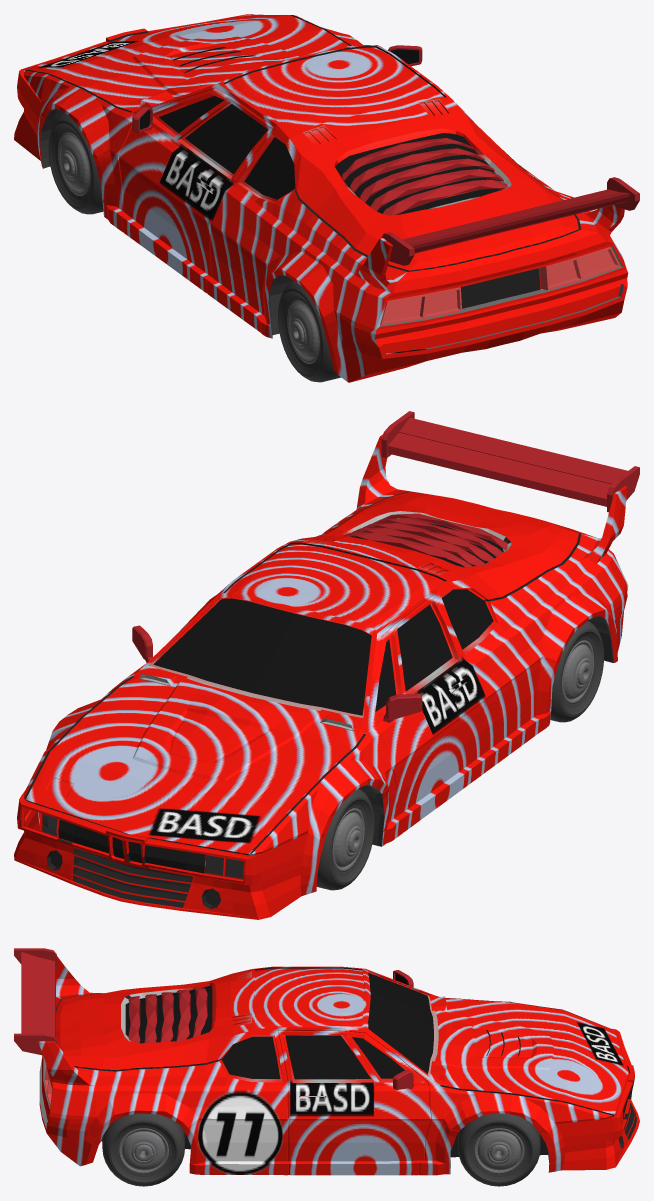
The model's file is BTW.fbx.
The picture shows the model from 3 angles, top to bottom: view 1: azimuth 30°, elevation 25°; view 2: azimuth 150°, elevation 25°; view 3: azimuth 270°, elevation 25°; orthographic projection. The views are drawn at different scales.
Parts seen in each view (by area): view 1: BTW S1, Cube.013, Cube.008, Cube.001; view 2: BTW S1, Cube.013, Cube.001, Cube.008, Cube.017, Plane.008; view 3: BTW S1, Cube.007, Cube, Cube.013, Cube.005.
Boxes of the visible parts, <box> form: BTW S1: <box>14,14,639,382</box>; Cube.013: <box>342,138,507,215</box>; Cube.008: <box>278,281,340,382</box>; Cube.001: <box>48,113,103,214</box>; BTW S1: <box>14,411,639,919</box>; Cube.013: <box>343,513,507,567</box>; Cube.001: <box>316,788,374,890</box>; Cube.008: <box>550,621,604,722</box>; Cube.017: <box>383,693,422,722</box>; Plane.008: <box>42,825,379,878</box>; BTW S1: <box>14,948,639,1175</box>; Cube.007: <box>102,1113,184,1186</box>; Cube: <box>458,1113,540,1186</box>; Cube.013: <box>128,987,207,1042</box>; Cube.005: <box>393,1070,413,1089</box>.
Size of the model in its own units: 162 by 98.3 by 386.
4 materials, 3 textured.
